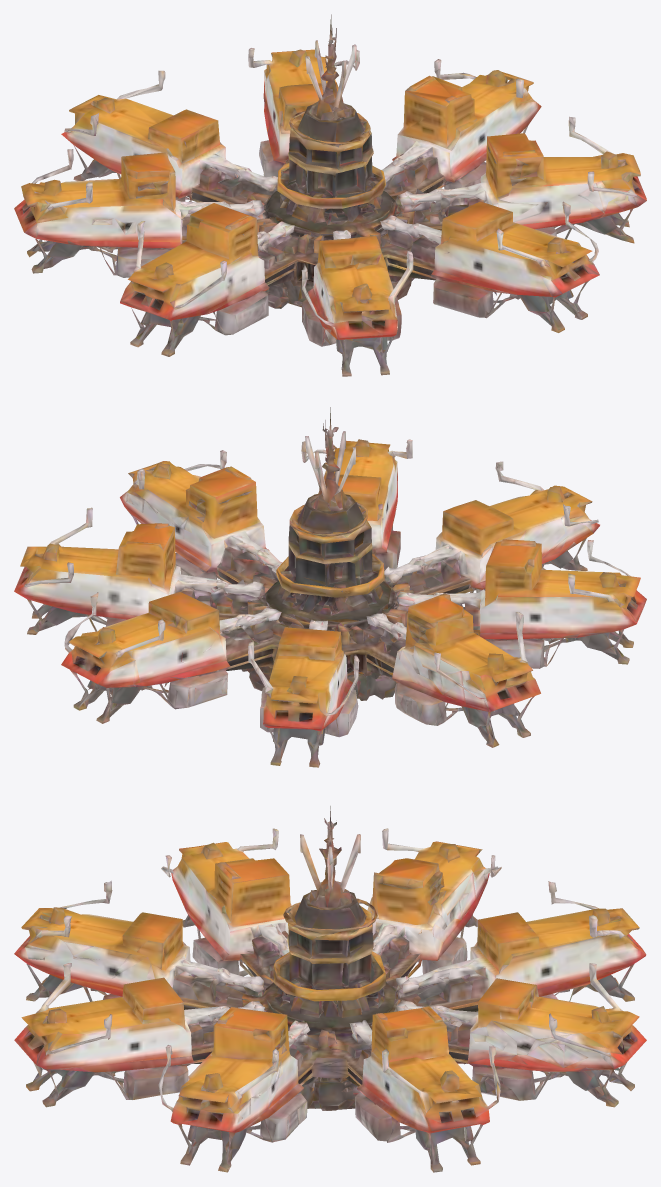
Rendered from fleet-D4gBosHm.glb.
3 views of the same model, one above another, from view 1: azimuth 30°, elevation 25°; view 2: azimuth 150°, elevation 25°; view 3: azimuth 270°, elevation 25° (orthographic). The views are drawn at different scales.
Visible parts, largest first — view 1: Mesh_0; view 2: Mesh_0; view 3: Mesh_0.
Part boxes in pixels (bbox=[...]): Mesh_0: bbox=[14, 14, 646, 376]; Mesh_0: bbox=[14, 407, 646, 767]; Mesh_0: bbox=[14, 806, 646, 1172].
Size of the model in its own units: 1.91 by 0.9818 by 1.91.
1 material, 1 textured.
